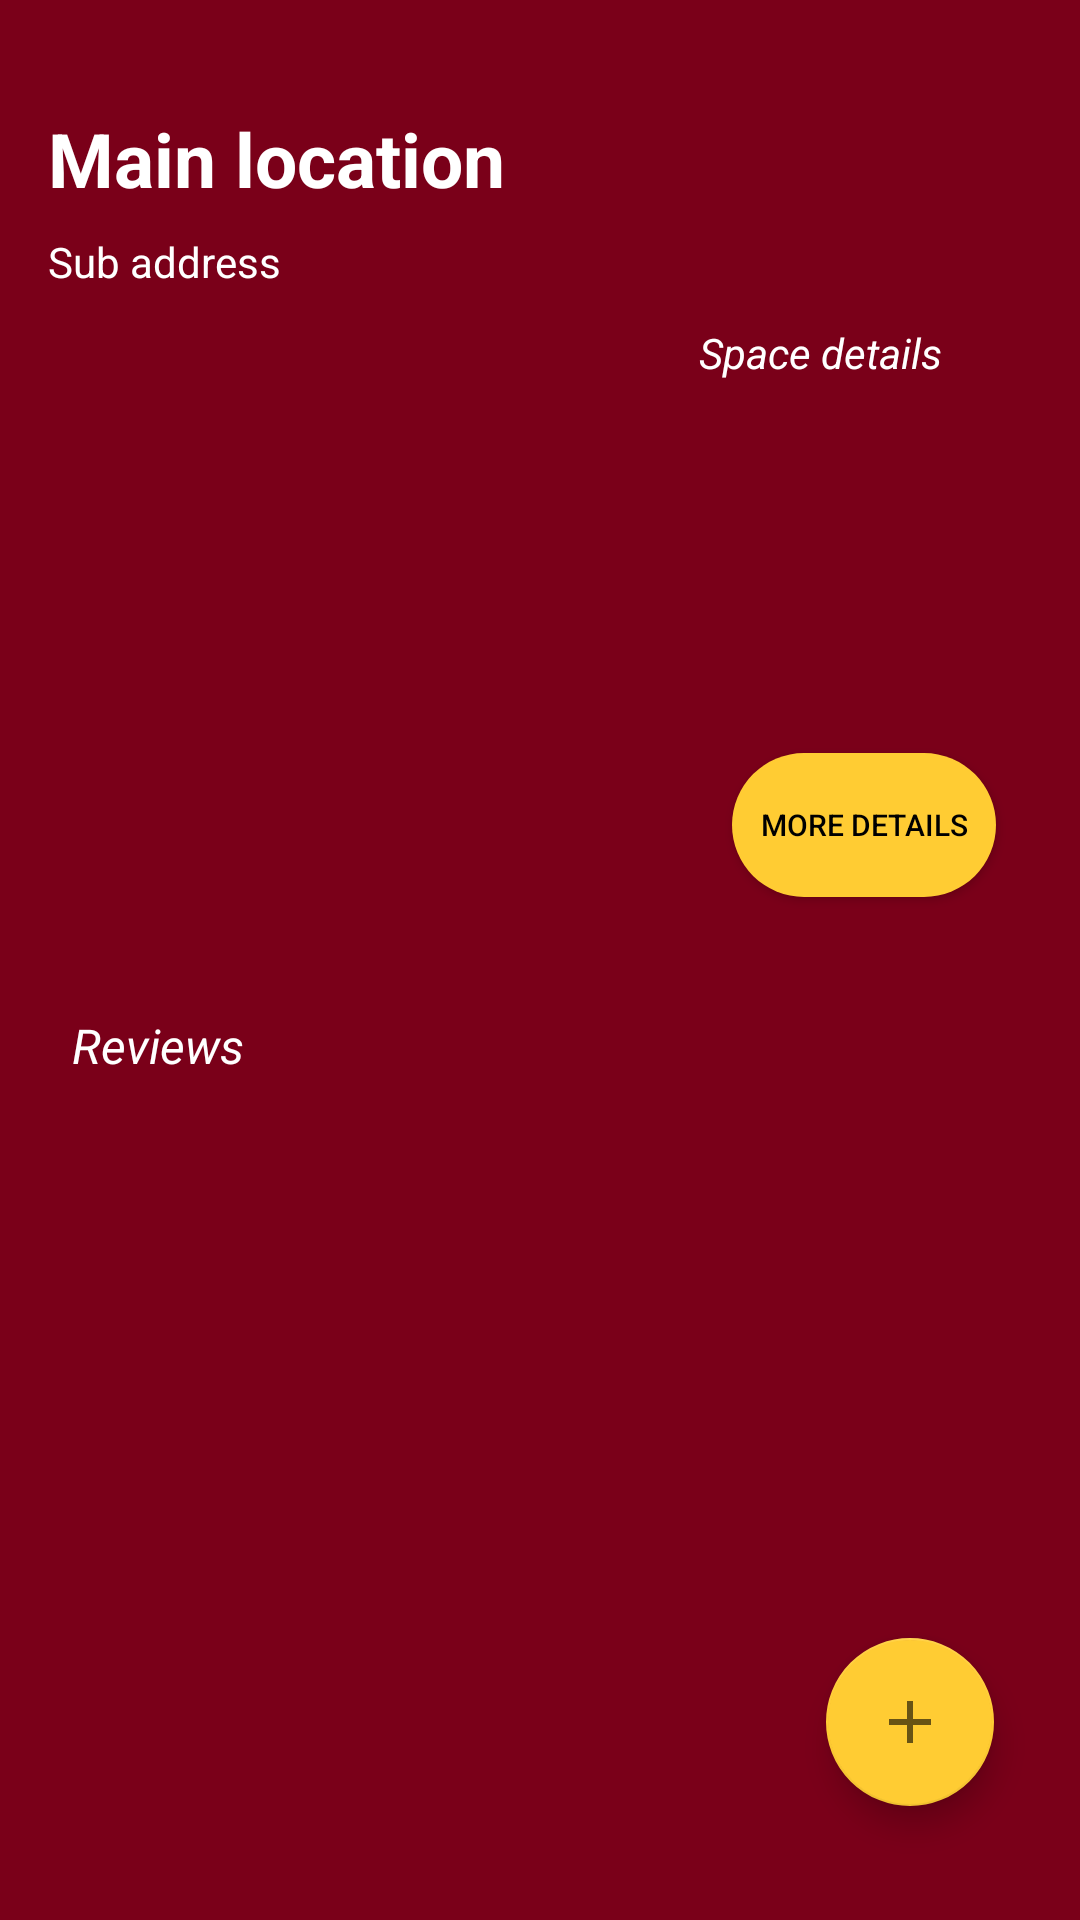

Icon click points for this 1080w x 1920h phone screenshot, format [x,y]:
add float: [910,1722]
